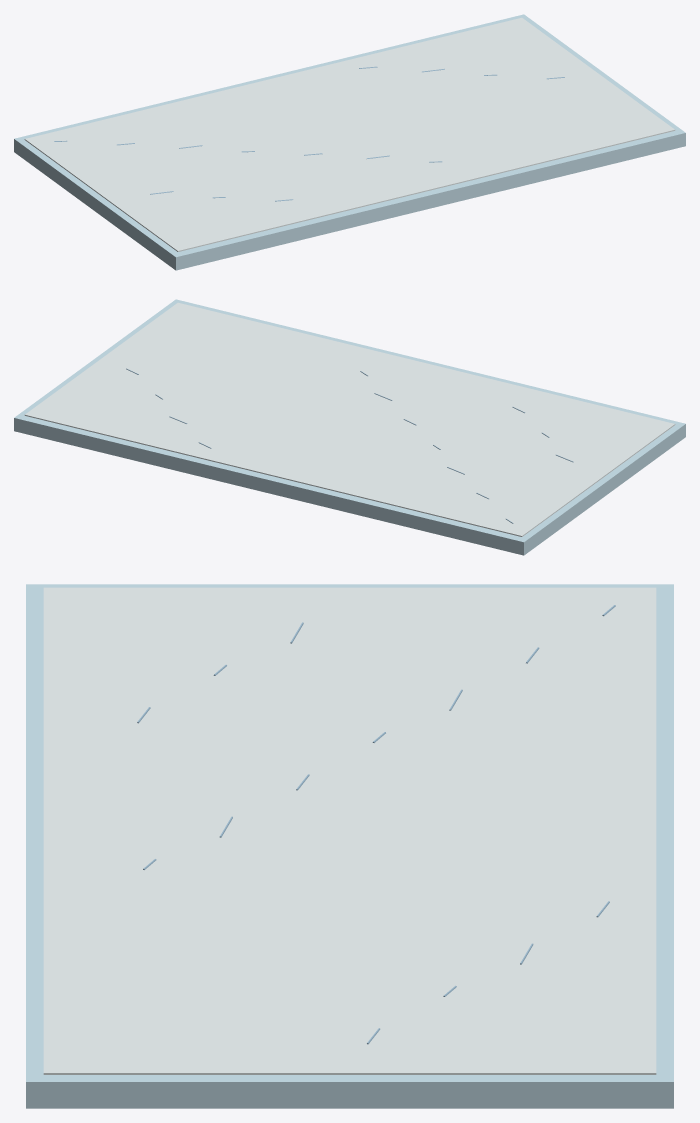
File: lago_helado.glb
3 views of the same model, one above another, from view 1: azimuth 30°, elevation 25°; view 2: azimuth 150°, elevation 25°; view 3: azimuth 270°, elevation 25° (orthographic). The views are drawn at different scales.
Parts seen in each view (by area): view 1: lago_helado; view 2: lago_helado; view 3: lago_helado.
Part boxes in pixels (bbox=[...]): lago_helado: bbox=[14, 14, 685, 270]; lago_helado: bbox=[14, 299, 685, 555]; lago_helado: bbox=[26, 584, 673, 1108].
Bounding box in the file's own units: 20 × 0.5776 × 11.
